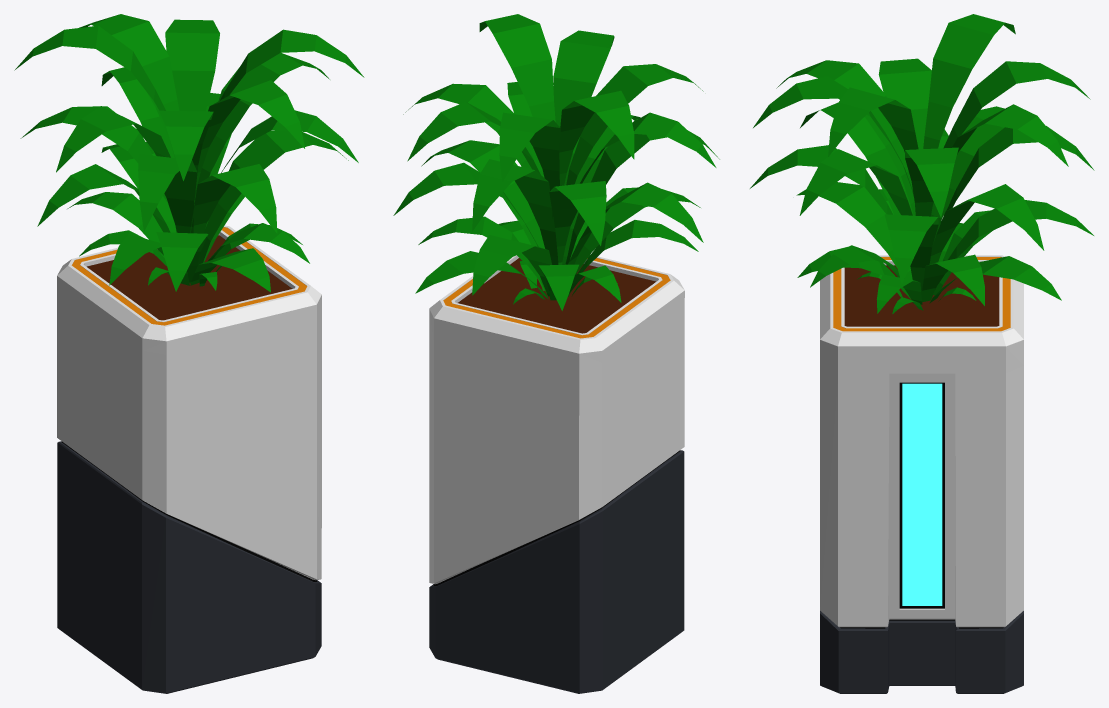
The model's file is SM_Tall_Rectangular_Planter.fbx.
3 renders of one model, left to right at view 1: azimuth 30°, elevation 25°; view 2: azimuth 150°, elevation 25°; view 3: azimuth 270°, elevation 25°, orthographic. The views are drawn at different scales.
Parts seen in each view (by area): view 1: SM_Tall_Rectangular_Planter; view 2: SM_Tall_Rectangular_Planter; view 3: SM_Tall_Rectangular_Planter.
Boxes of the visible parts, x1,y1,x2,y2 form: SM_Tall_Rectangular_Planter: [14, 14, 364, 693]; SM_Tall_Rectangular_Planter: [393, 14, 719, 693]; SM_Tall_Rectangular_Planter: [750, 14, 1094, 693].
Bounding box in the file's own units: 47.54 × 89.88 × 47.68.
